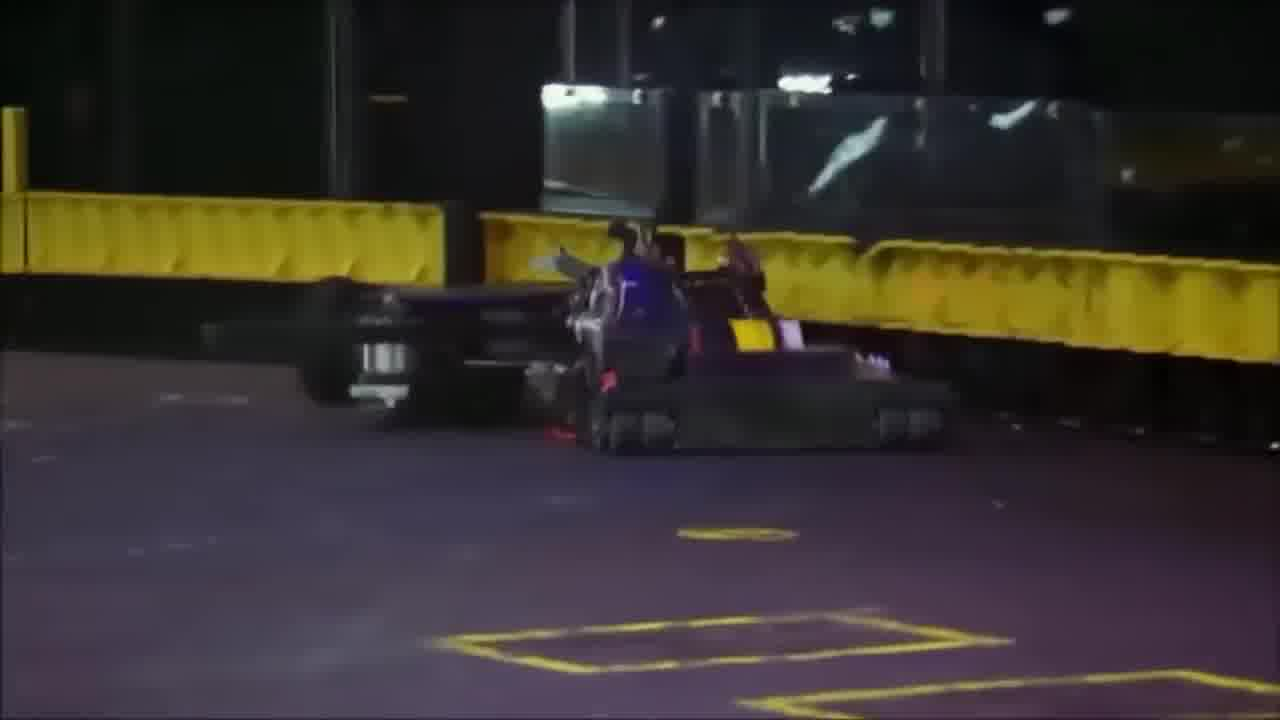combatbot: (552, 216, 963, 454), (203, 274, 581, 410)
